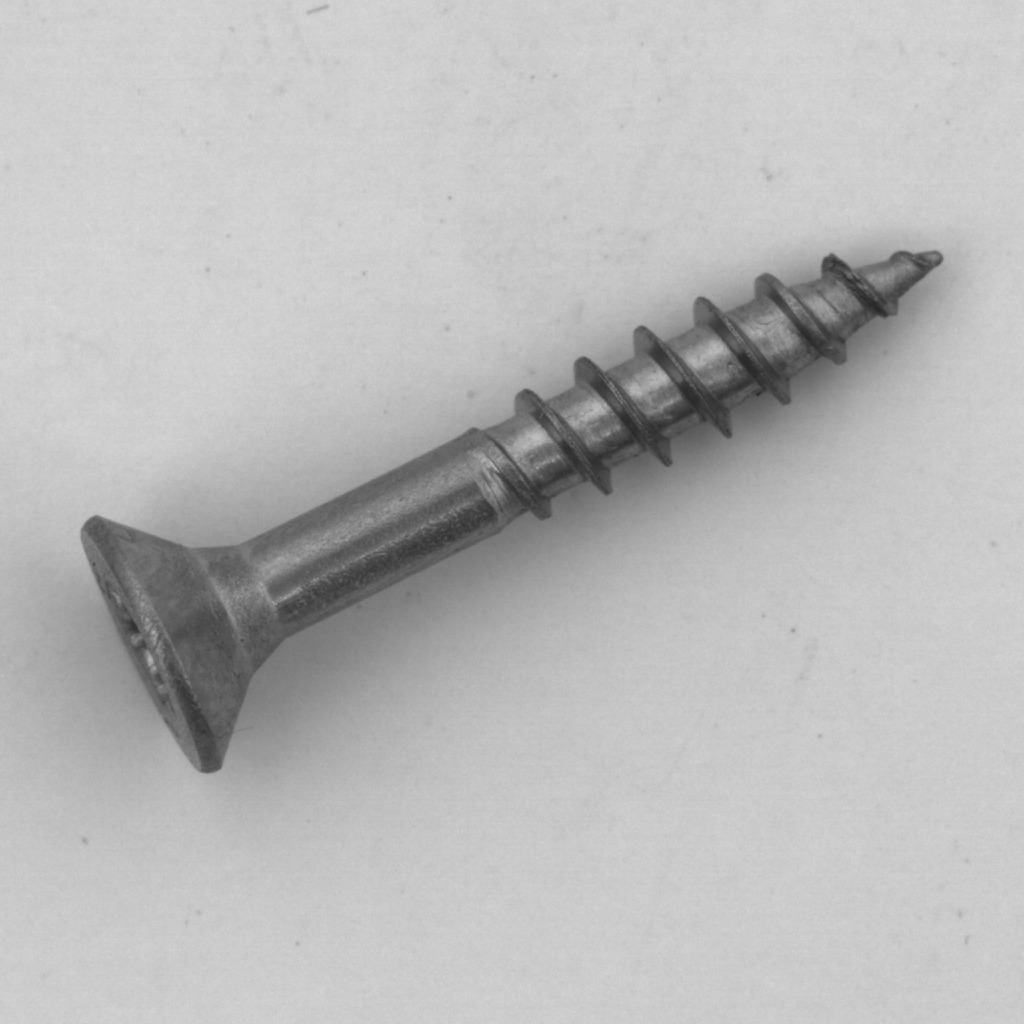good: (71, 224, 971, 792)
